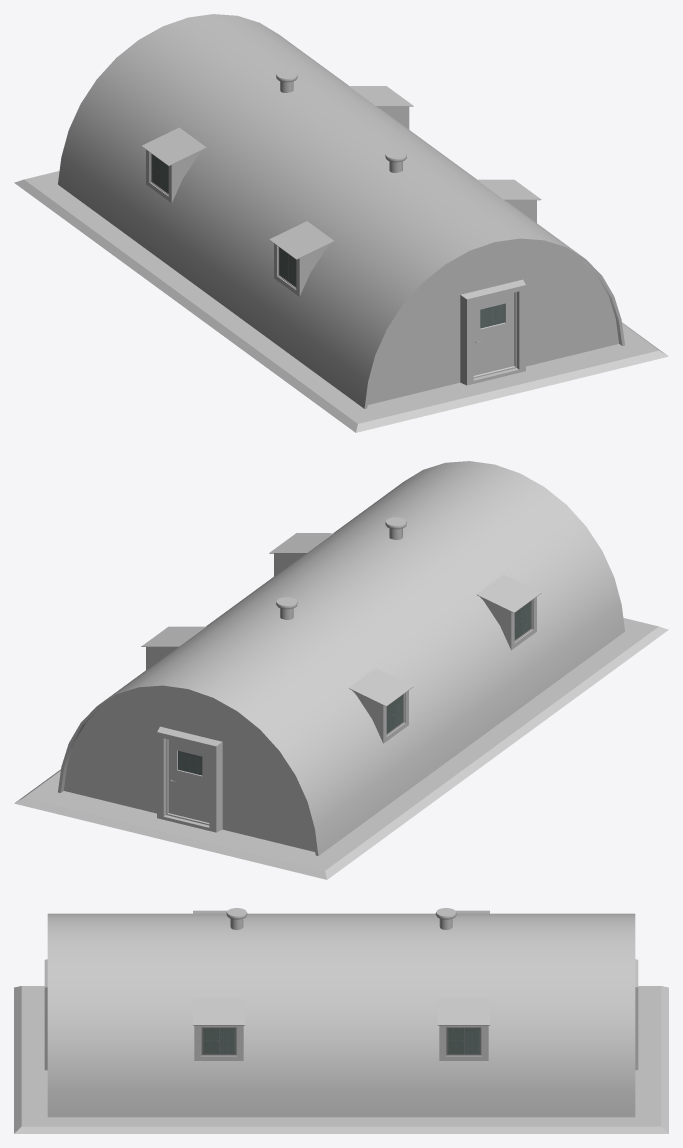
Rendered from chamber.fbx.
3 renders of one model, top to bottom at view 1: azimuth 30°, elevation 25°; view 2: azimuth 150°, elevation 25°; view 3: azimuth 270°, elevation 25°, orthographic. The views are drawn at different scales.
Parts seen in each view (by area): view 1: chamber_4; view 2: chamber_4; view 3: chamber_4.
Part boxes in pixels (<box>): chamber_4: <box>14,14,668,432</box>; chamber_4: <box>14,461,668,879</box>; chamber_4: <box>14,908,668,1133</box>.
Size of the model in its own units: 665 by 314 by 1256.
